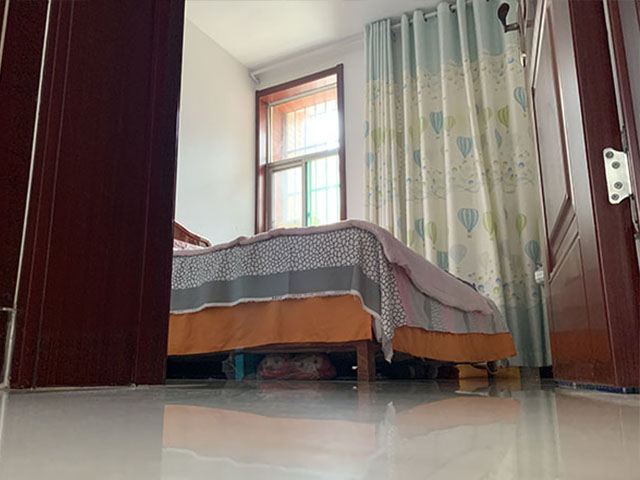bed: (172, 219, 510, 384)
curtain: (361, 1, 553, 369)
